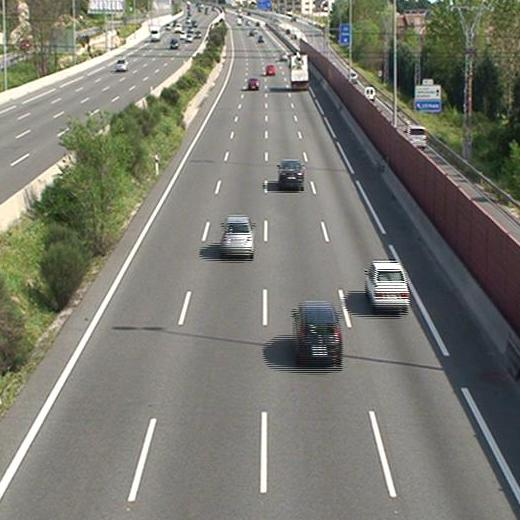car: (291, 303, 342, 363), (365, 259, 412, 312), (217, 216, 253, 256), (277, 158, 306, 189), (265, 64, 276, 77), (247, 78, 260, 89)
small-truck: (289, 53, 310, 90)
